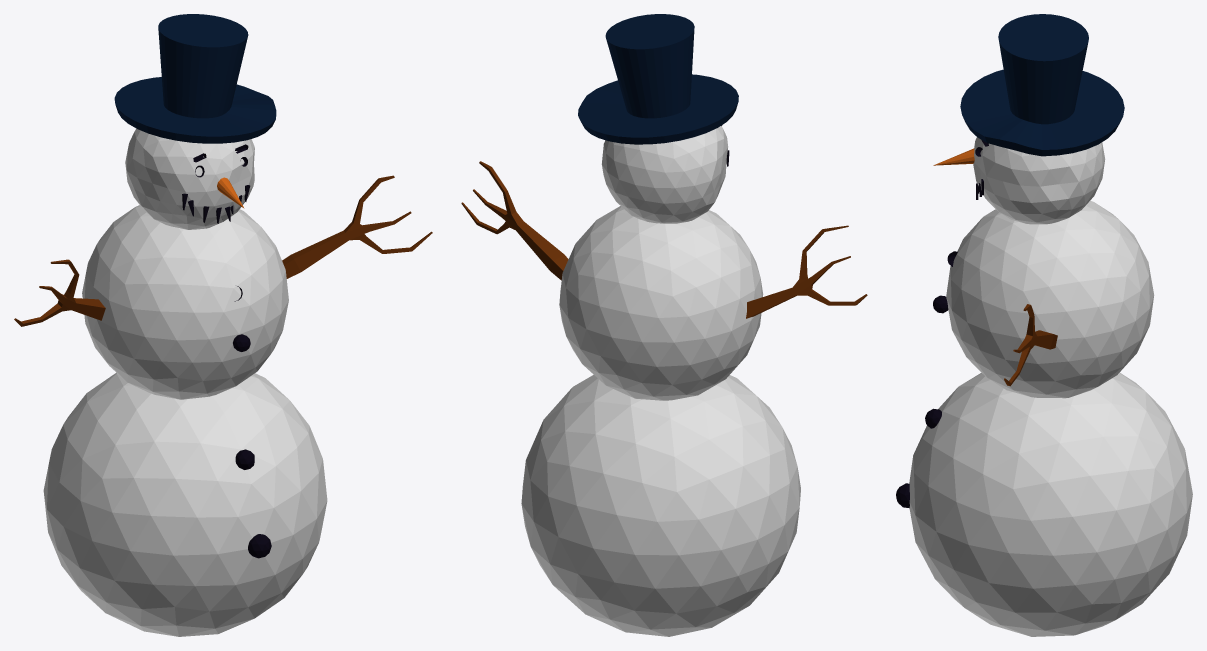
The model's file is snehulak2 1.fbx.
3 views of the same model, side by side, from view 1: azimuth 30°, elevation 25°; view 2: azimuth 150°, elevation 25°; view 3: azimuth 270°, elevation 25° (orthographic).
Visible parts, largest first — view 1: Icosphere.019, Icosphere.018, Cylinder.001, Icosphere.017, Cube.030, Cube.031; view 2: Icosphere.019, Icosphere.018, Cylinder.001, Icosphere.017, Cube.030, Cube.031; view 3: Icosphere.019, Icosphere.018, Cylinder.001, Icosphere.017, Cube.030.
Boxes of the visible parts, left/top/right/bottom form: Icosphere.019: left=43, top=372, right=327, bottom=636; Icosphere.018: left=82, top=205, right=288, bottom=399; Cylinder.001: left=114, top=14, right=276, bottom=143; Icosphere.017: left=125, top=128, right=254, bottom=229; Cube.030: left=282, top=175, right=432, bottom=278; Cube.031: left=14, top=259, right=105, bottom=326; Icosphere.019: left=521, top=374, right=800, bottom=636; Icosphere.018: left=559, top=206, right=763, bottom=400; Cylinder.001: left=578, top=14, right=738, bottom=144; Icosphere.017: left=601, top=126, right=728, bottom=223; Cube.030: left=461, top=161, right=568, bottom=280; Cube.031: left=746, top=225, right=867, bottom=318; Icosphere.019: left=909, top=372, right=1192, bottom=636; Icosphere.018: left=946, top=200, right=1154, bottom=398; Cylinder.001: left=960, top=14, right=1124, bottom=156; Icosphere.017: left=973, top=137, right=1105, bottom=224; Cube.030: left=1004, top=304, right=1057, bottom=386.
Size of the model in its own units: 177 by 395 by 286.
